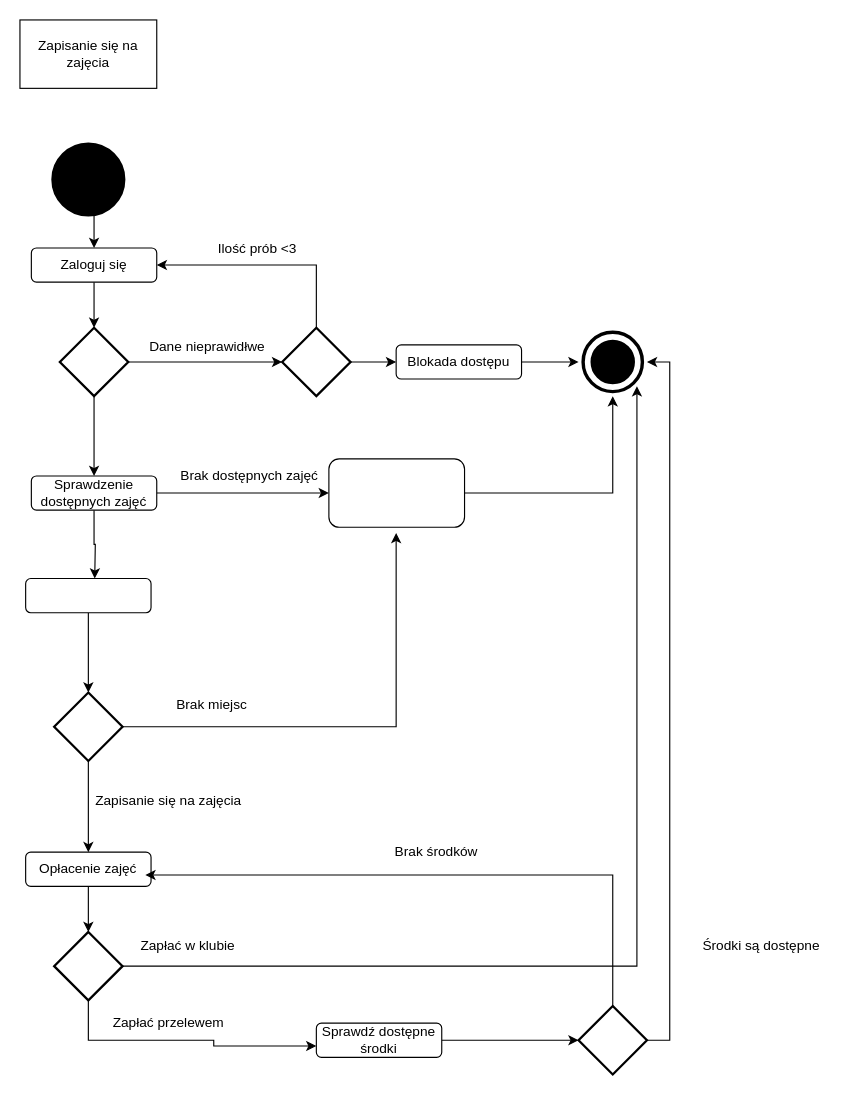
Image size: 849x1096. Some labels were removed from this diagram. Here are the shapes that lost their labels. From the top down, the box of each, then its label:
(328, 458, 465, 527): Wyświetlenie komunikatu, aby sprawdzić później dostępne zajęcia
(25, 577, 151, 613): Wybór zajęć
